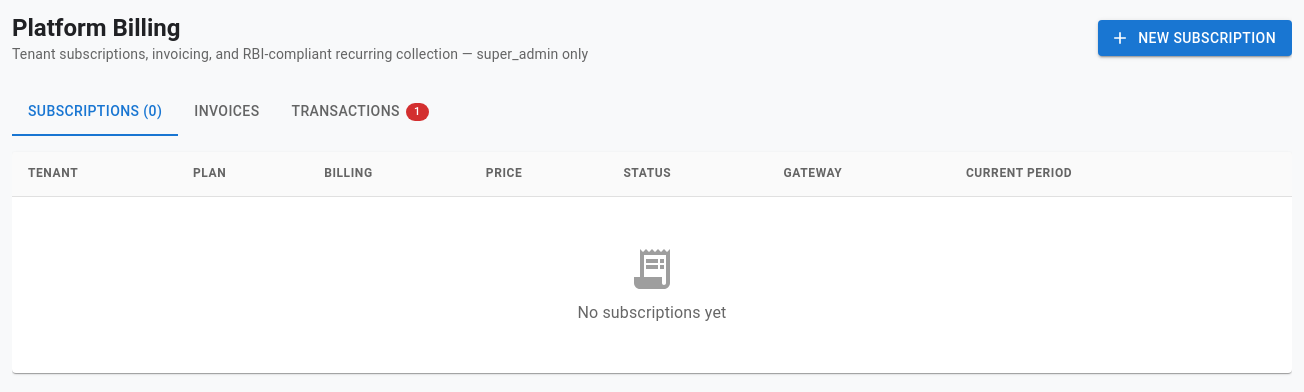
admin/PlatformBilling › records a manual retry on a failed invoice
The image size is (1304, 392).
Check: the text "No subscriptions yet" is shown, box [578,303,726,322]
Click the tab "Invoices". click: point(227, 112)
box: [178,88,276,136]
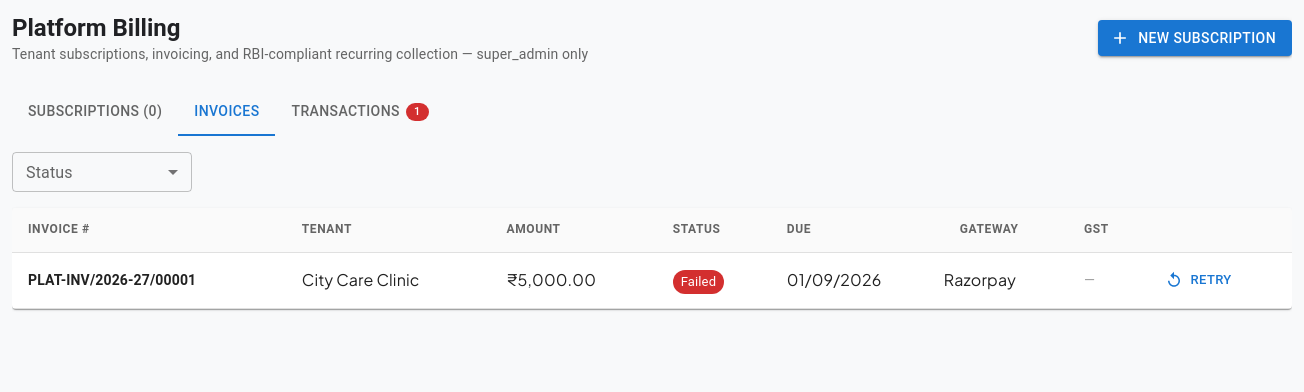
Check: the text "PLAT-INV/2026-27/00001" is shown, box [28,272,196,288]
Click the button "Retry". click: point(1199, 280)
box: [1162,265,1237,296]
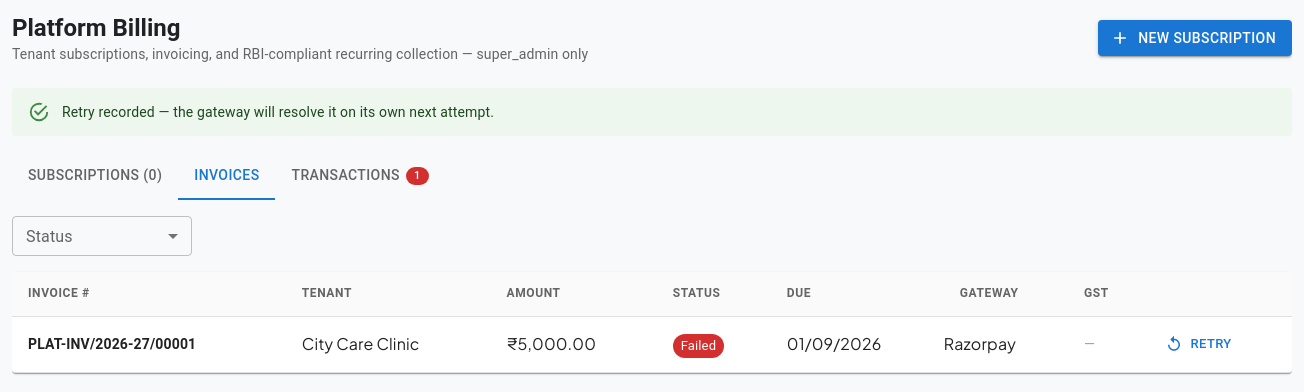
Check: the text "Retry recorded" is shown, box [62,104,494,120]
